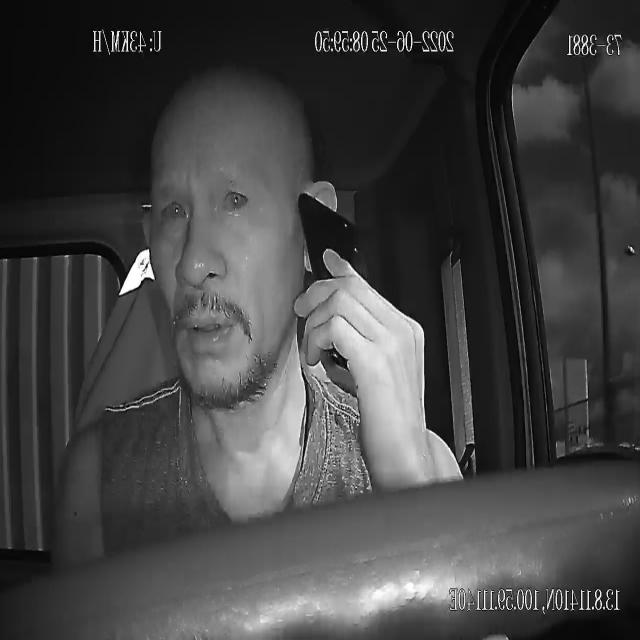phone: (299, 192, 368, 361)
